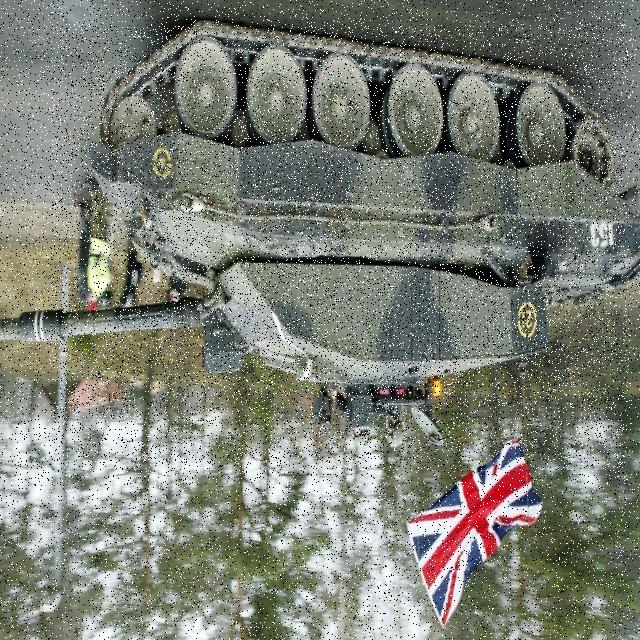MIL_MBT: (51, 24, 628, 469)
